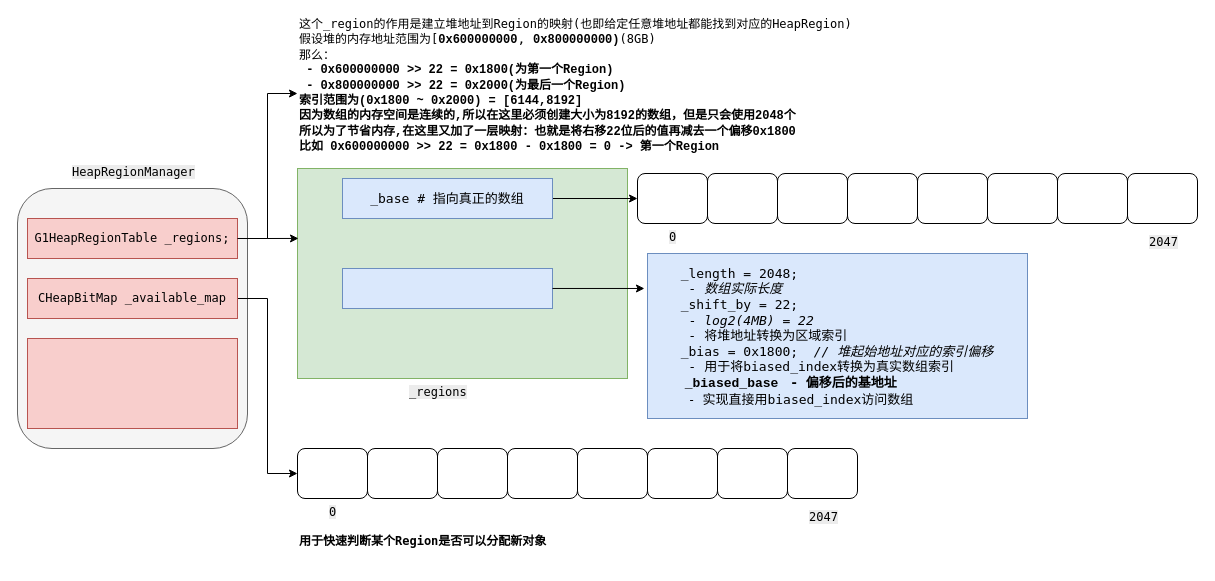
The diagram is 1215 pixels wide and 581 high, and some of its shapes have lost their labels. Here are the shapes that lost their labels. From the top down, the centre of each, then its label:
At point (447, 288): "其他属性".
At point (132, 383): "6大映射器".
